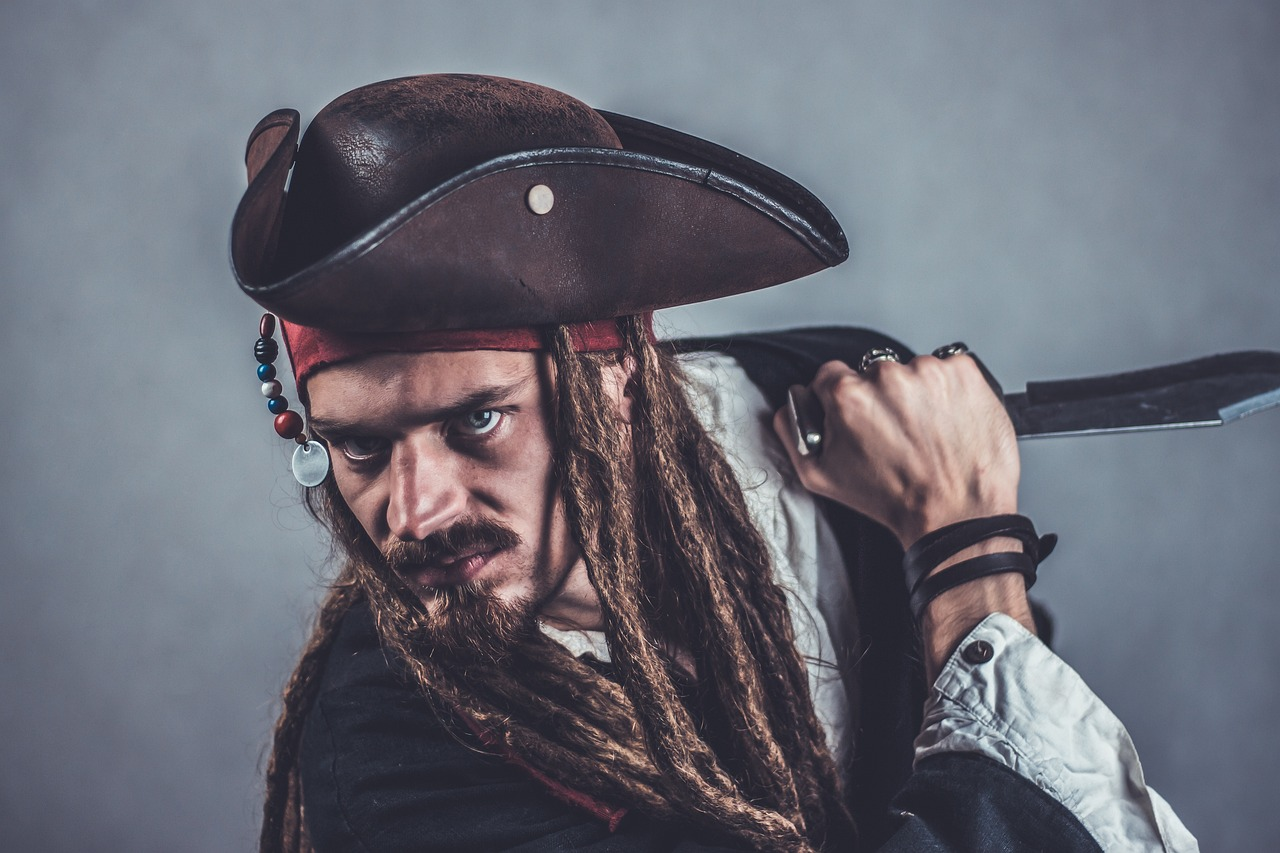knife: (779, 340, 1280, 476)
